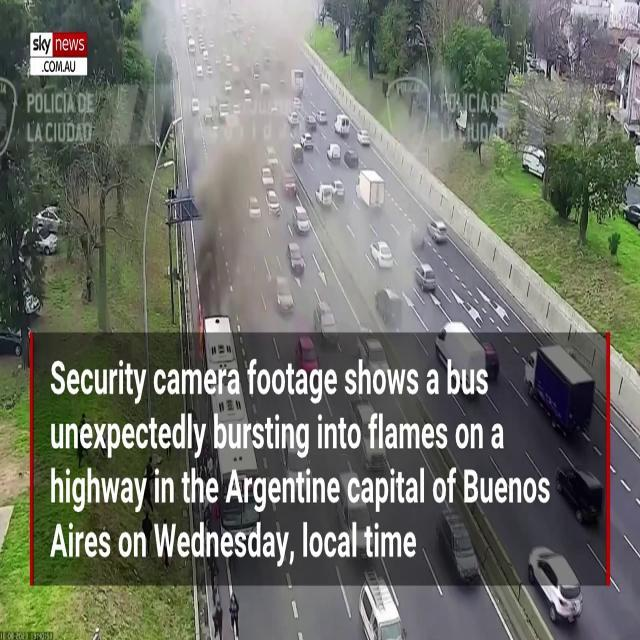Smoke: (155, 0, 307, 311)
